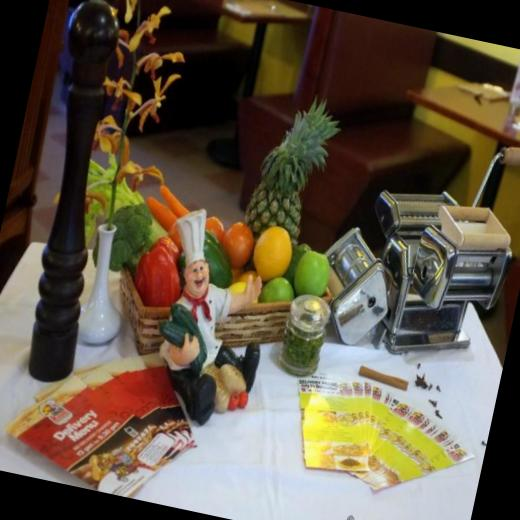Mango: (236, 81, 349, 260)
